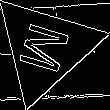M_E: (14, 18, 77, 77)
